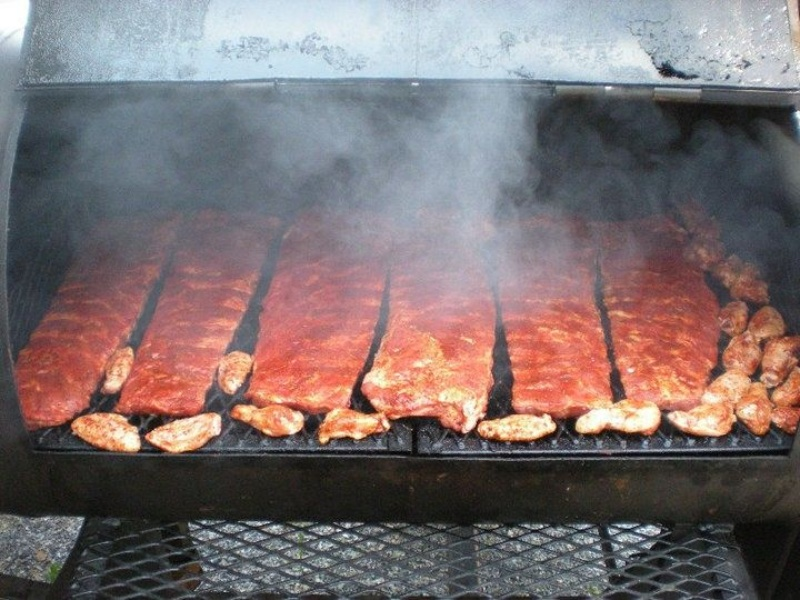smoke: (33, 91, 795, 294)
